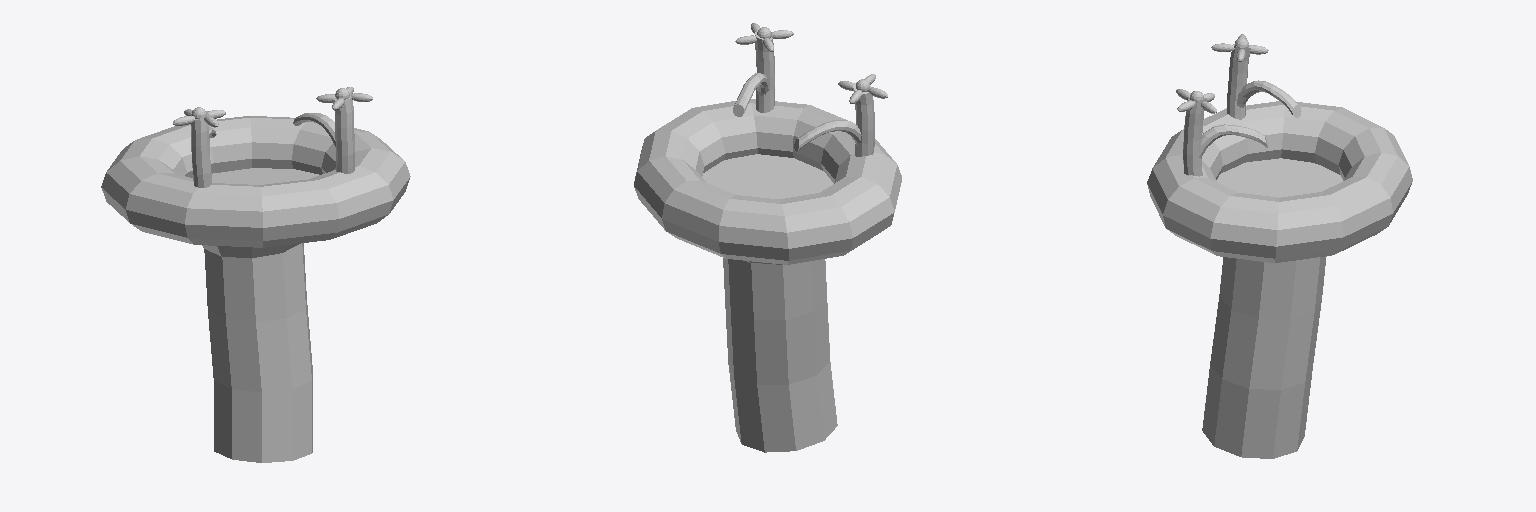
File: Sink.obj
The picture shows the model from 3 angles: view 1: azimuth 30°, elevation 25°; view 2: azimuth 150°, elevation 25°; view 3: azimuth 270°, elevation 25°; orthographic projection.
Visible parts, largest first — view 1: group[number redacted]; view 2: group[number redacted]; view 3: group[number redacted].
Part boxes in pixels (x1,y1,x2,y2): group[number redacted]: (101,87,410,462); group[number redacted]: (634,23,901,452); group[number redacted]: (1147,34,1412,458).
Size of the model in its own units: 0.5623 by 0.7801 by 0.5037.